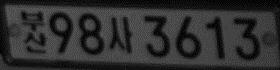1: (204, 15, 230, 59)
3: (233, 16, 261, 61), (144, 14, 171, 57)
6: (175, 15, 202, 59)
8: (78, 12, 104, 55)
9: (48, 10, 73, 53)
부산_V: (19, 10, 47, 54)
사: (108, 16, 134, 53)
